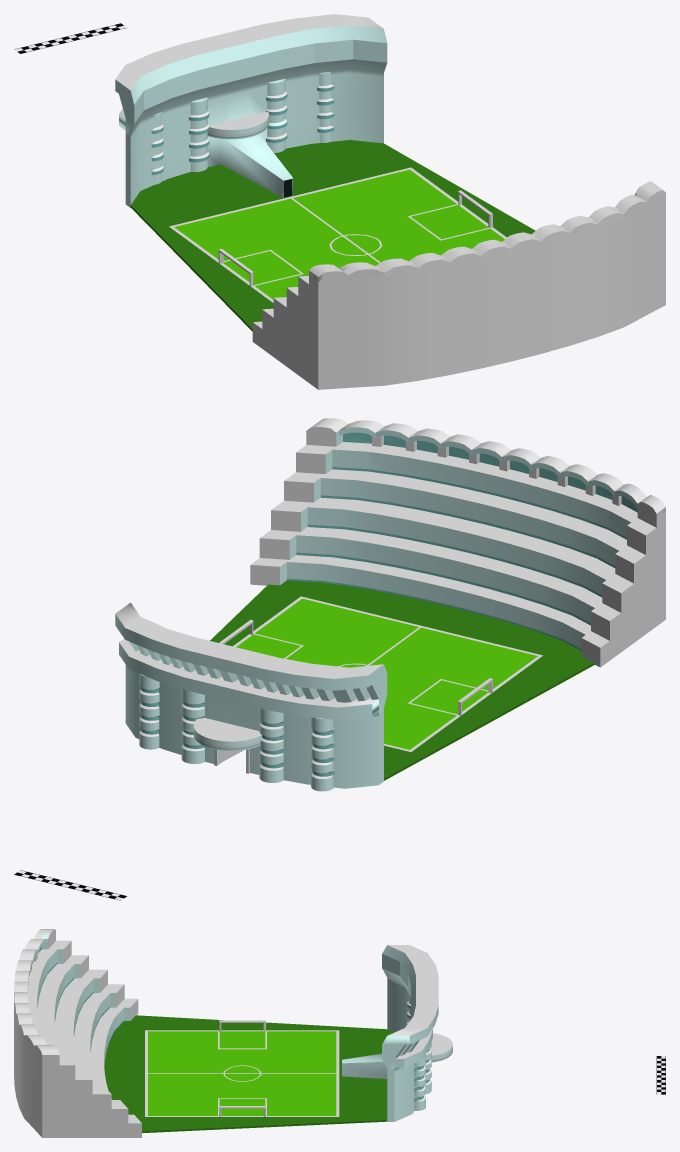
File: Finish_Lİne.fbx
3 views of the same model, one above another, from view 1: azimuth 30°, elevation 25°; view 2: azimuth 150°, elevation 25°; view 3: azimuth 270°, elevation 25° (orthographic). The views are drawn at different scales.
Visible parts, largest first — view 1: tribune, Field, outer wall, finishline; view 2: tribune, Field, outer wall, finishline; view 3: Field, tribune, outer wall, finishline.
Boxes of the visible parts, x1,y1,x2,y2 form: tribune: (252, 181, 665, 389); Field: (130, 140, 535, 331); outer wall: (115, 14, 387, 207); finishline: (14, 23, 126, 53); tribune: (250, 418, 665, 667); Field: (210, 580, 594, 780); outer wall: (115, 602, 387, 791); finishline: (14, 870, 126, 900); Field: (104, 1015, 394, 1132); tribune: (14, 929, 141, 1137); outer wall: (342, 945, 452, 1121); finishline: (656, 1056, 665, 1094).
Bounding box in the file's own units: 8104 × 2689 × 17923.
Materials: 9 (1 with a texture image).
